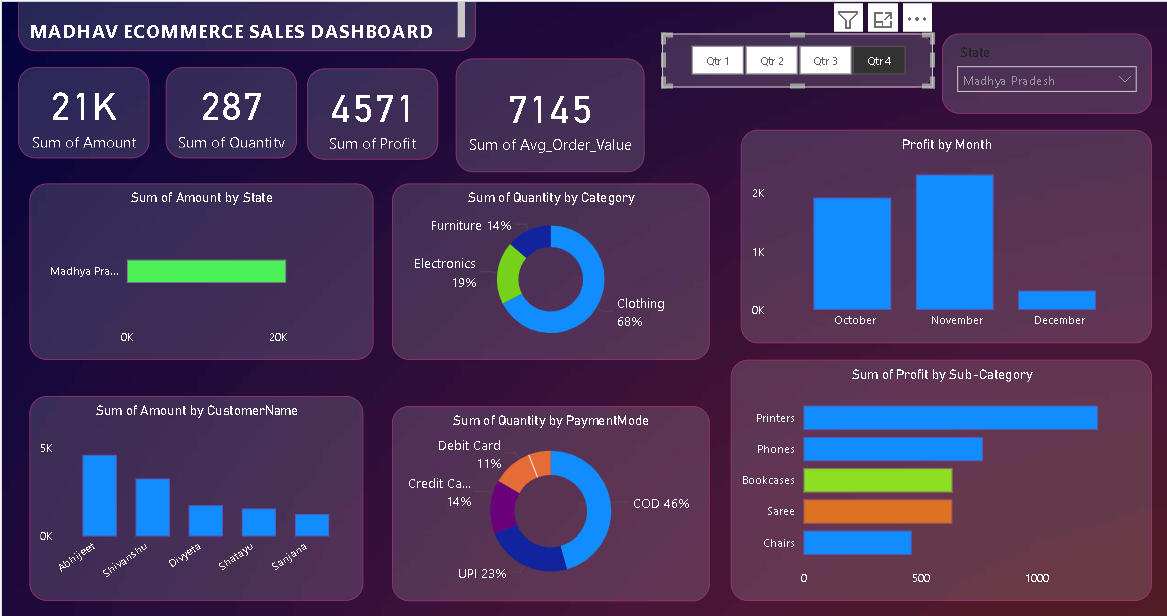

This screenshot's page, from the dashboard's own definition file:
{"tool":"powerbi","page":{"name":"Page 1","canvas":[1280,720],"ordinal":0},"visuals":[{"type":"textbox","box":[17.8,30.2,502.2,68.6],"z":0},{"type":"columnChart","title":"Profit by Month","fields":{"Y":["Details.Profit"],"Category":["Orders.Order Date.Variation.Date Hierarchy.Month"]},"box":[811,185.2,451.5,234.6],"z":1000},{"type":"barChart","fields":{"Category":["Details.Sub-Category"],"Y":["Details.Profit"]},"box":[800,437.7,462.4,264.8],"z":2000},{"type":"donutChart","fields":{"Category":["Details.Category"],"Y":["Details.Quantity"]},"box":[428.1,244.3,348.5,193.5],"z":3000},{"type":"donutChart","fields":{"Y":["Details.Quantity"],"Category":["Details.PaymentMode"]},"box":[428.1,488.5,348.5,214.1],"z":4000},{"type":"card","fields":{"Values":["Details.Amount"]},"box":[17.8,116.6,144.1,100.2],"z":5000},{"type":"card","fields":{"Values":["Details.Quantity"]},"box":[179.8,116.6,144.1,100.2],"z":6000},{"type":"card","fields":{"Values":["Details.Profit"]},"box":[334.8,118,144.1,100.2],"z":7000},{"type":"card","fields":{"Values":["Details.Avg_Order_Value"]},"box":[498.1,107,207.2,124.9],"z":8000},{"type":"barChart","fields":{"Category":["Orders.State"],"Y":["Details.Amount"]},"box":[30.2,244.3,377.4,193.5],"z":9000},{"type":"columnChart","fields":{"Category":["Orders.CustomerName"],"Y":["Details.Amount"]},"box":[30.2,477.5,366.4,225],"z":10000},{"type":"slicer","fields":{"Values":["Orders.Order Date.Variation.Date Hierarchy.Quarter"]},"box":[724.5,79.6,297.8,59],"z":11000},{"type":"slicer","fields":{"Values":["Orders.State"]},"box":[1031.9,79.6,230.5,87.8],"z":12000}]}

Visuals, with their boxes on the page's 1280x720 design canvas (x1, y1, x2, y2). These are canvas units, not pixel positions in the 1167x616 screenshot, which may show the page scaled, cropped or inside an application window:
textbox: [x1=18, y1=30, x2=520, y2=99]
"Profit by Month" columnChart: [x1=811, y1=185, x2=1262, y2=420]
barChart - Details.Sub-Category x Details.Profit: [x1=800, y1=438, x2=1262, y2=702]
donutChart - Details.Category x Details.Quantity: [x1=428, y1=244, x2=777, y2=438]
donutChart - Details.Quantity x Details.PaymentMode: [x1=428, y1=488, x2=777, y2=703]
card - Details.Amount: [x1=18, y1=117, x2=162, y2=217]
card - Details.Quantity: [x1=180, y1=117, x2=324, y2=217]
card - Details.Profit: [x1=335, y1=118, x2=479, y2=218]
card - Details.Avg_Order_Value: [x1=498, y1=107, x2=705, y2=232]
barChart - Orders.State x Details.Amount: [x1=30, y1=244, x2=408, y2=438]
columnChart - Orders.CustomerName x Details.Amount: [x1=30, y1=478, x2=397, y2=702]
slicer - Orders.Order Date.Variation.Date Hierarchy.Quarter: [x1=724, y1=80, x2=1022, y2=139]
slicer - Orders.State: [x1=1032, y1=80, x2=1262, y2=167]
